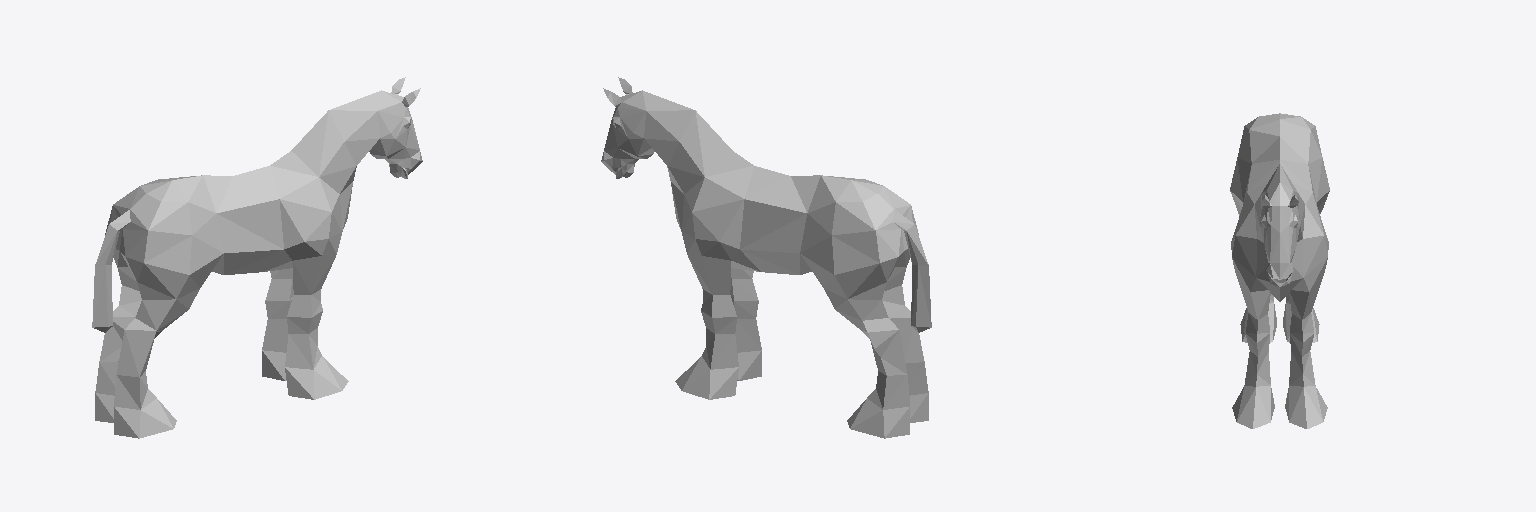
The model's file is horse.obj.
3 views of the same model, side by side, from view 1: azimuth 30°, elevation 25°; view 2: azimuth 150°, elevation 25°; view 3: azimuth 270°, elevation 25° (orthographic).
Parts seen in each view (by area): view 1: Horse1_Mesh; view 2: Horse1_Mesh; view 3: Horse1_Mesh.
Part boxes in pixels (left/top/right/bottom): Horse1_Mesh: left=92, top=77, right=422, bottom=438; Horse1_Mesh: left=601, top=77, right=931, bottom=438; Horse1_Mesh: left=1230, top=113, right=1329, bottom=428.
Bounding box in the file's own units: 60.99 × 48.04 × 16.2.